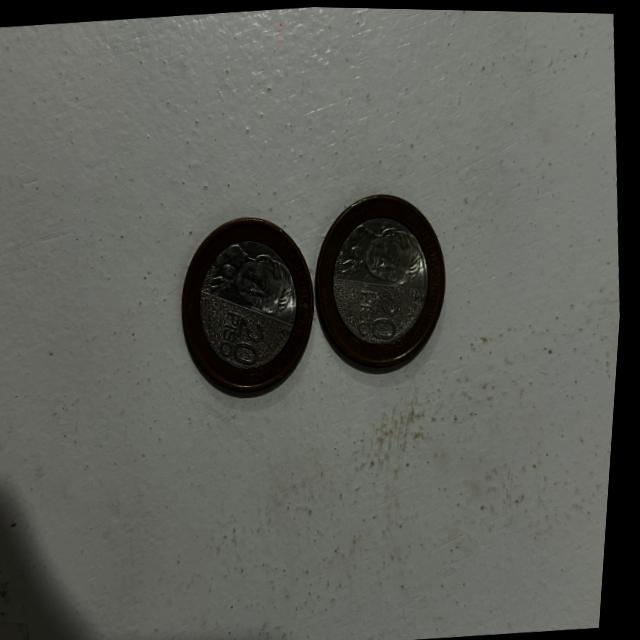20_New_Front: (216, 304, 275, 369), (355, 284, 408, 345)
